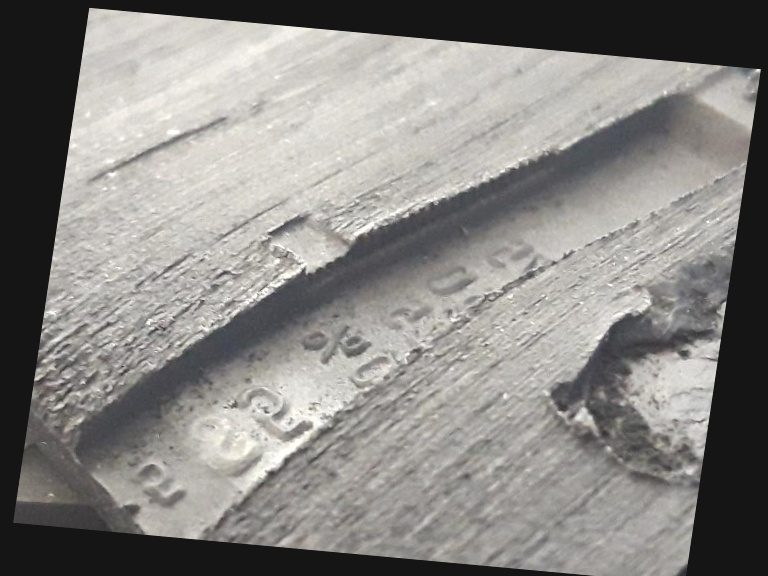temoin:0: (246, 183, 391, 307)
